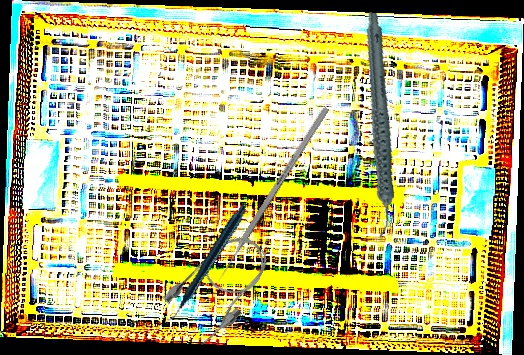Cannula: (157, 222, 284, 351)
Handpiece: (329, 11, 425, 239), (137, 202, 274, 323)
Pusher: (211, 106, 330, 289)
